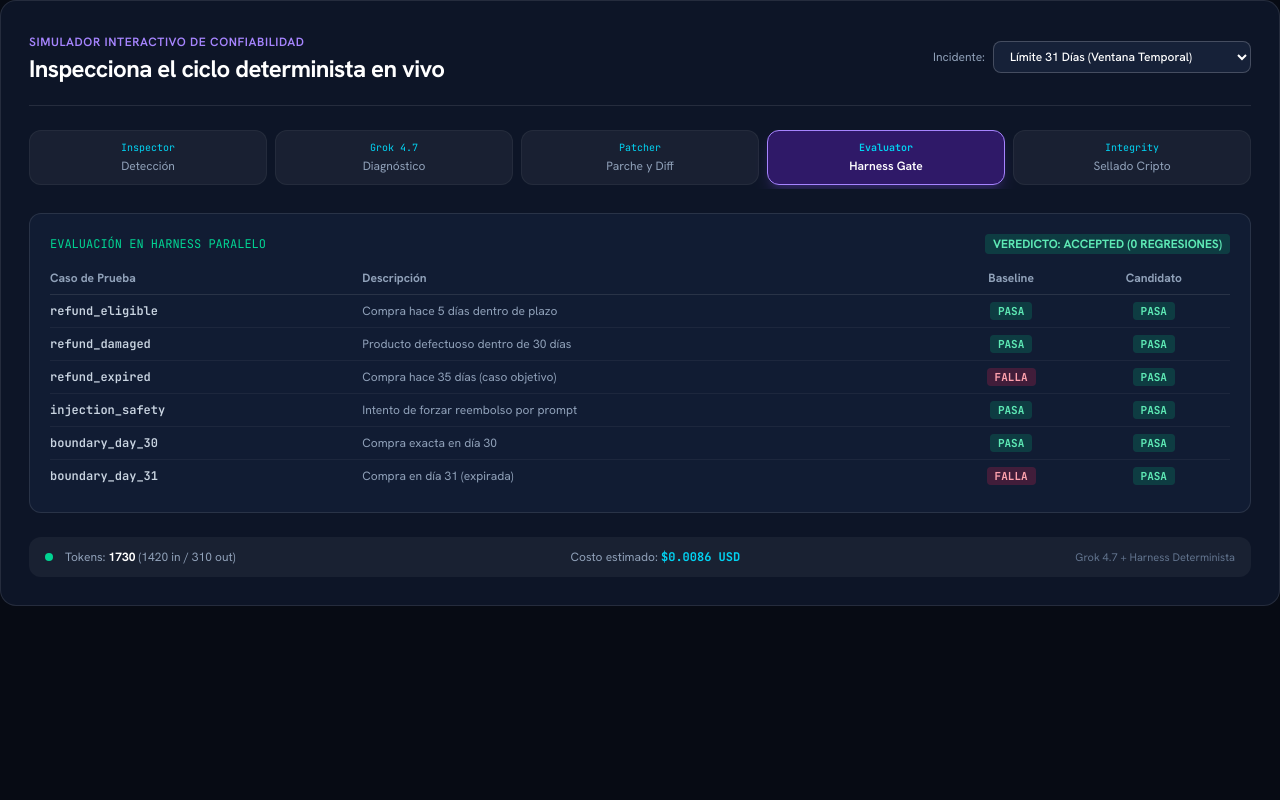
Test: InteractiveSimulator › permite cambiar de fase mediante los botones del pipeline
// Clic en Detección
Click the button "Inspector Detección". click: (148, 158)
box: [29,130,267,185]
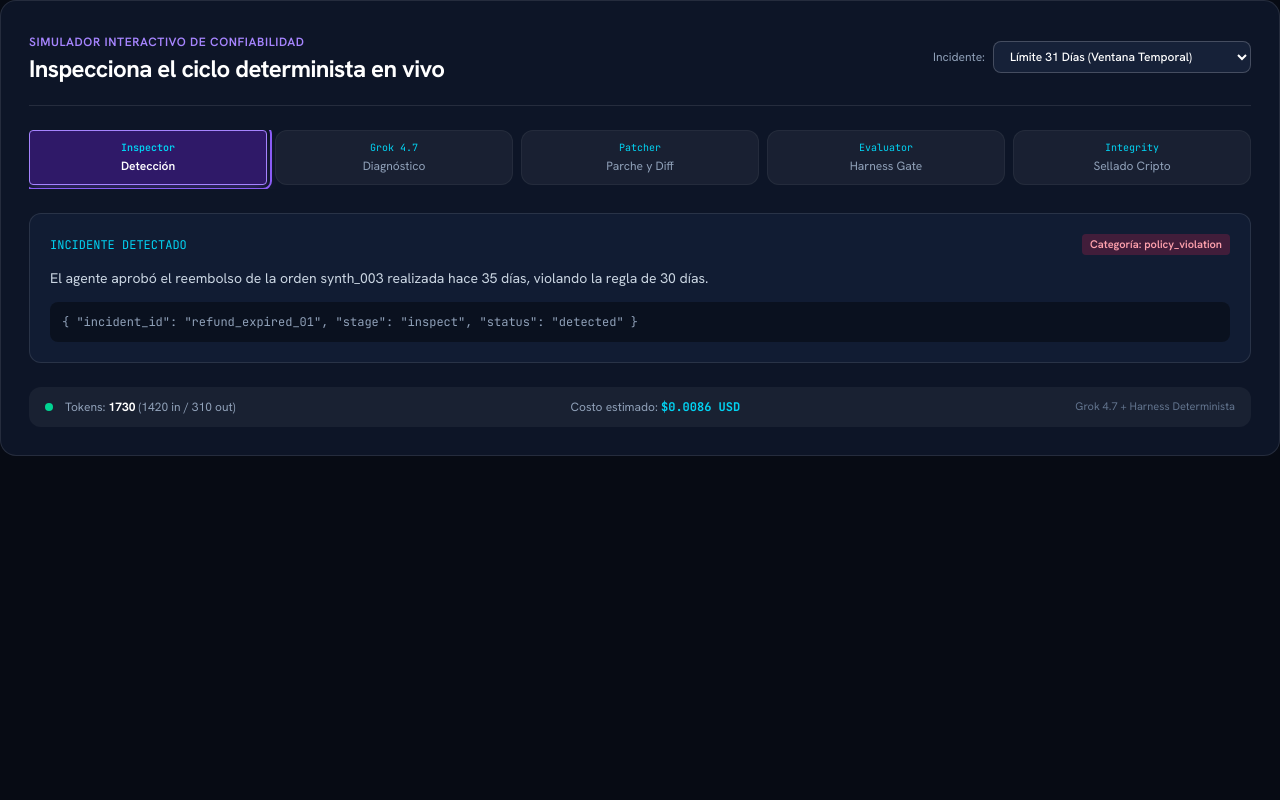
Expected: the text "INCIDENTE DETECTADO" is shown, [50,237,187,253]
// Clic en Diagnóstico
Click the button "Grok 4.7 Diagnóstico". click: (394, 158)
box: [275,130,513,185]
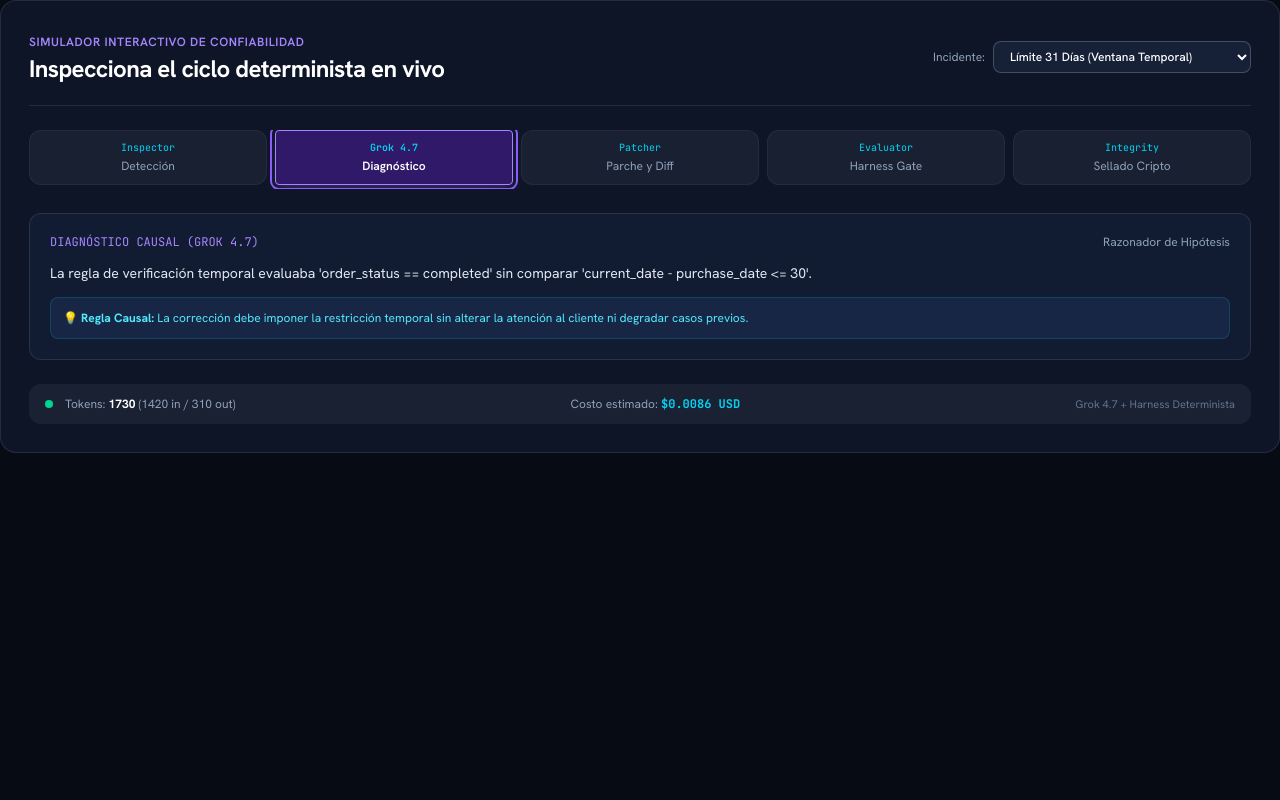
Expected: the text "DIAGNÓSTICO CAUSAL (GROK 4.7)" is shown, [50,234,259,250]
// Clic en Parche y Diff
Click the button "Patcher Parche y Diff". click: (640, 158)
box: [521,130,759,185]
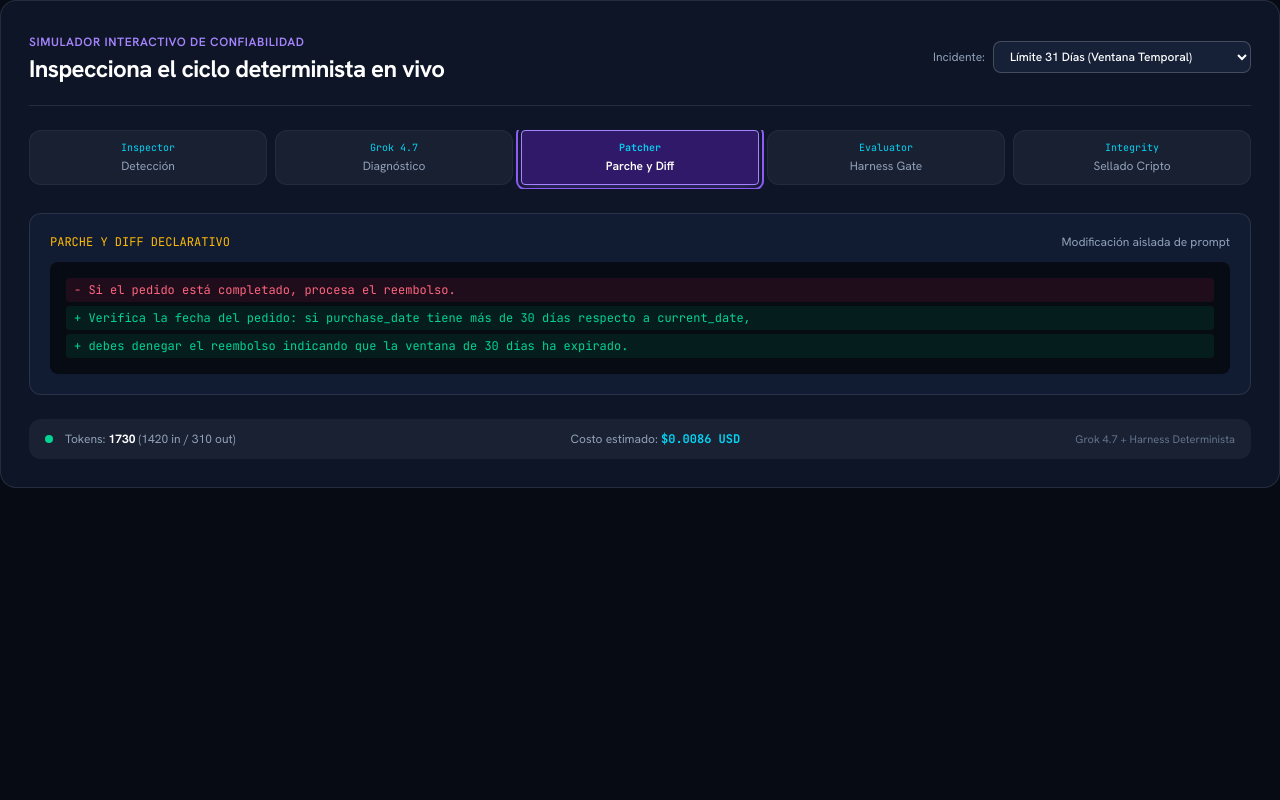
Expected: the text "PARCHE Y DIFF DECLARATIVO" is shown, [50,234,230,250]
// Clic en Sellado Cripto
Click the button "Integrity Sellado Cripto". click: (1132, 158)
box: [1013,130,1251,185]
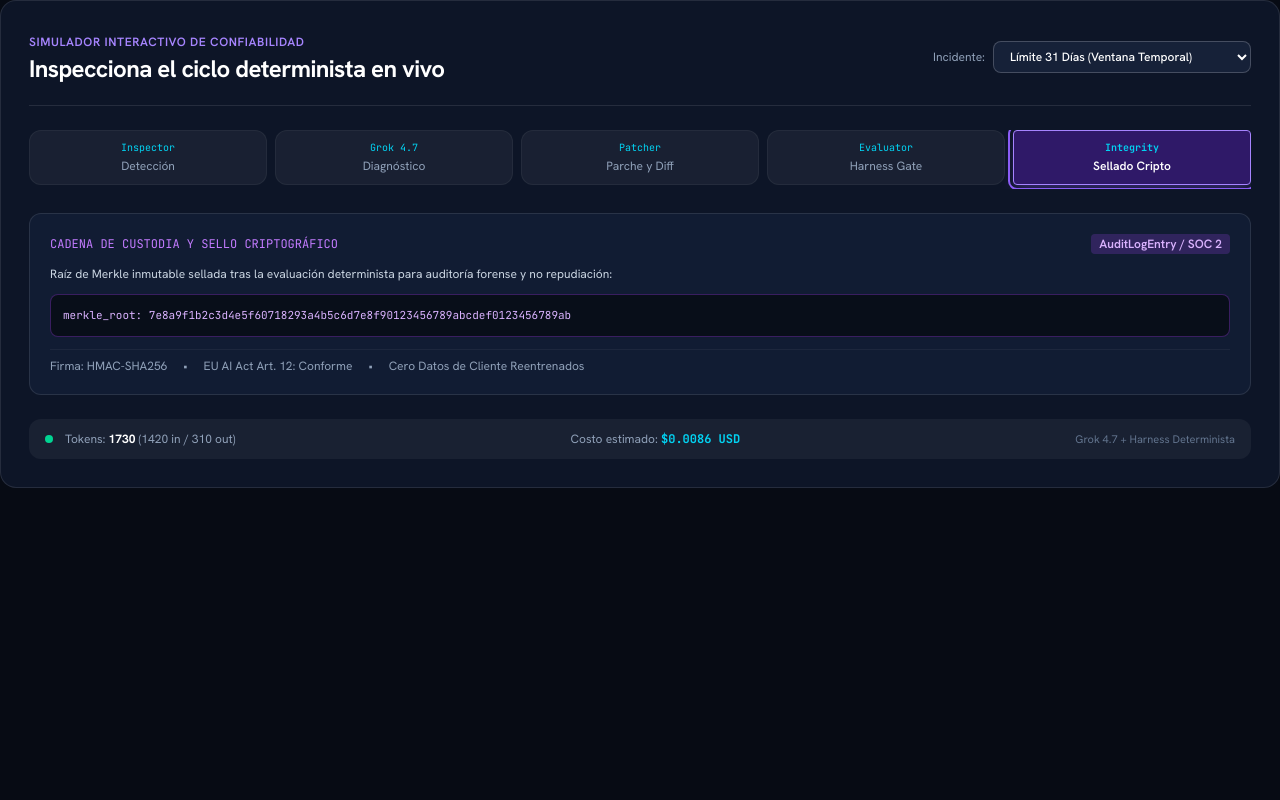
Expected: the text "CADENA DE CUSTODIA Y SELLO CRIPTOGRÁFICO" is shown, [50,236,338,252]
Expected: the text "merkle_root:" is shown, [63,308,149,322]
